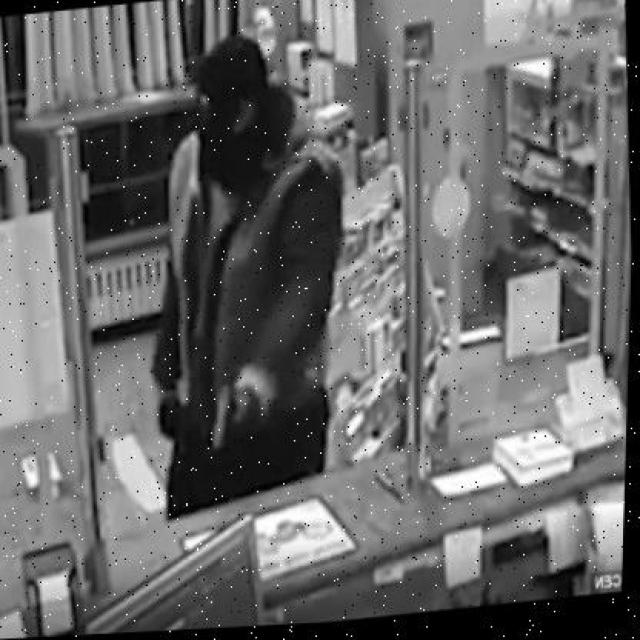weapon: (208, 384, 264, 458)
